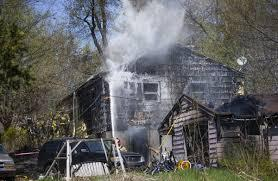smoke: (108, 3, 181, 66)
